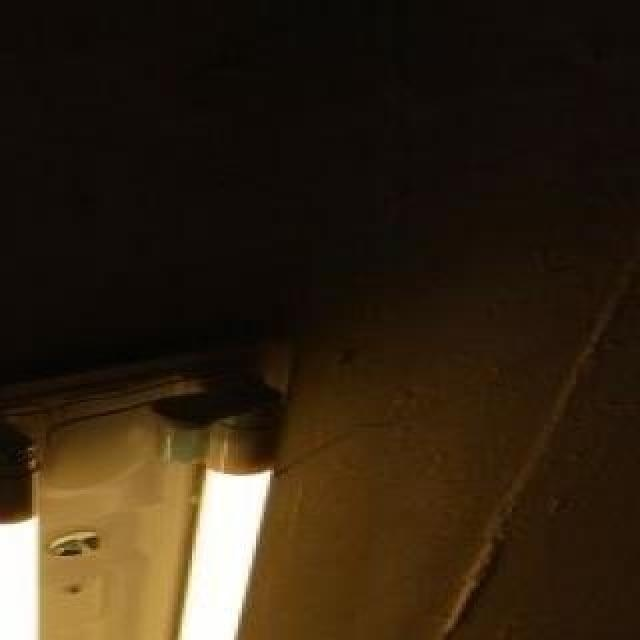fluorescent tube: (88, 348, 284, 640), (0, 420, 52, 640)
